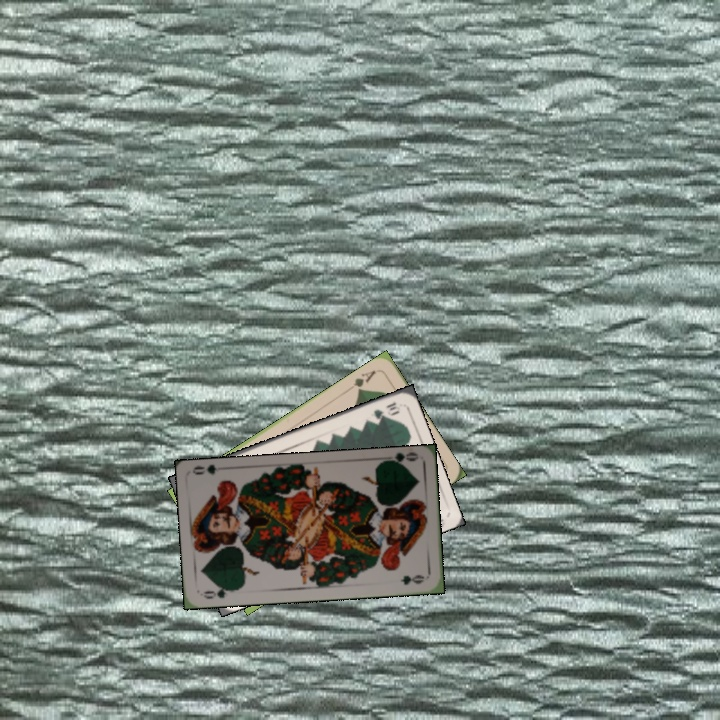G10: (369, 398, 403, 422)
GA: (349, 366, 379, 395)
GO: (379, 449, 419, 469), (200, 582, 239, 602)
